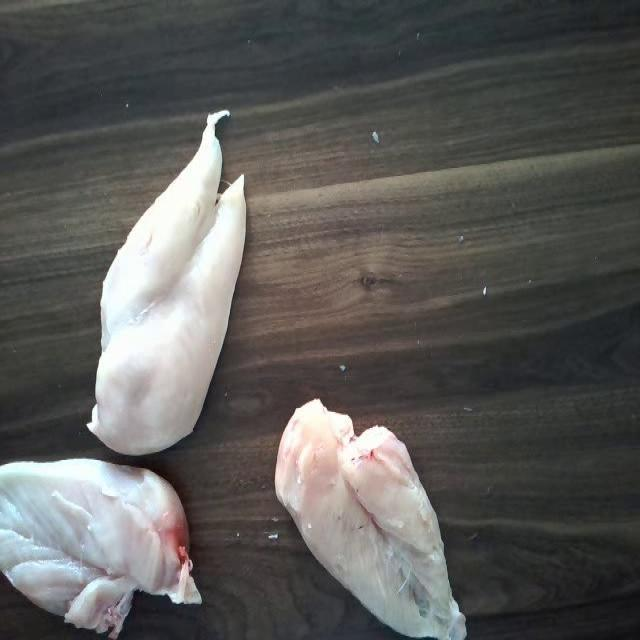breast: (97, 120, 243, 448), (283, 404, 461, 636), (0, 450, 201, 628)
